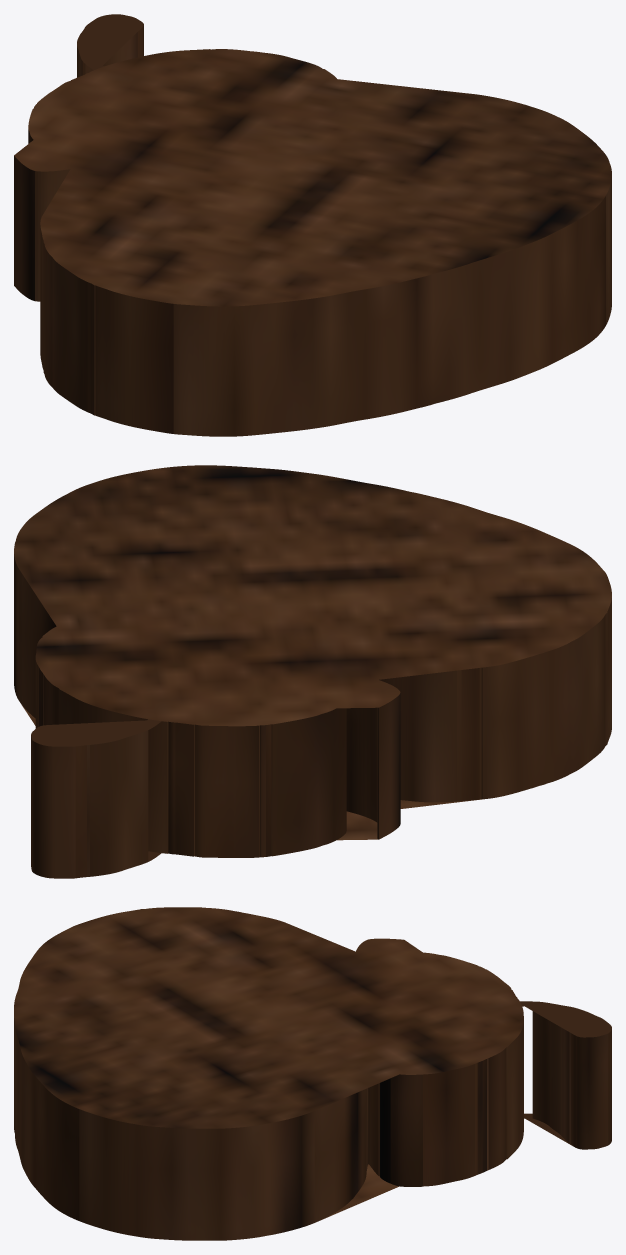
The model's file is 葫芦底座.fbx.
3 renders of one model, top to bottom at view 1: azimuth 30°, elevation 25°; view 2: azimuth 150°, elevation 25°; view 3: azimuth 270°, elevation 25°, orthographic. The views are drawn at different scales.
Visible parts, largest first — view 1: 立方体.001; view 2: 立方体.001; view 3: 立方体.001.
Boxes of the visible parts, x1,y1,x2,y2 form: 立方体.001: (14, 14, 611, 436); 立方体.001: (14, 465, 611, 878); 立方体.001: (14, 907, 611, 1240).
Bounding box in the file's own units: 8479 × 2000 × 9672.
